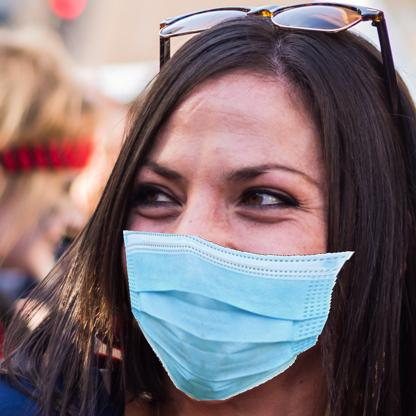mask: (116, 223, 357, 406)
